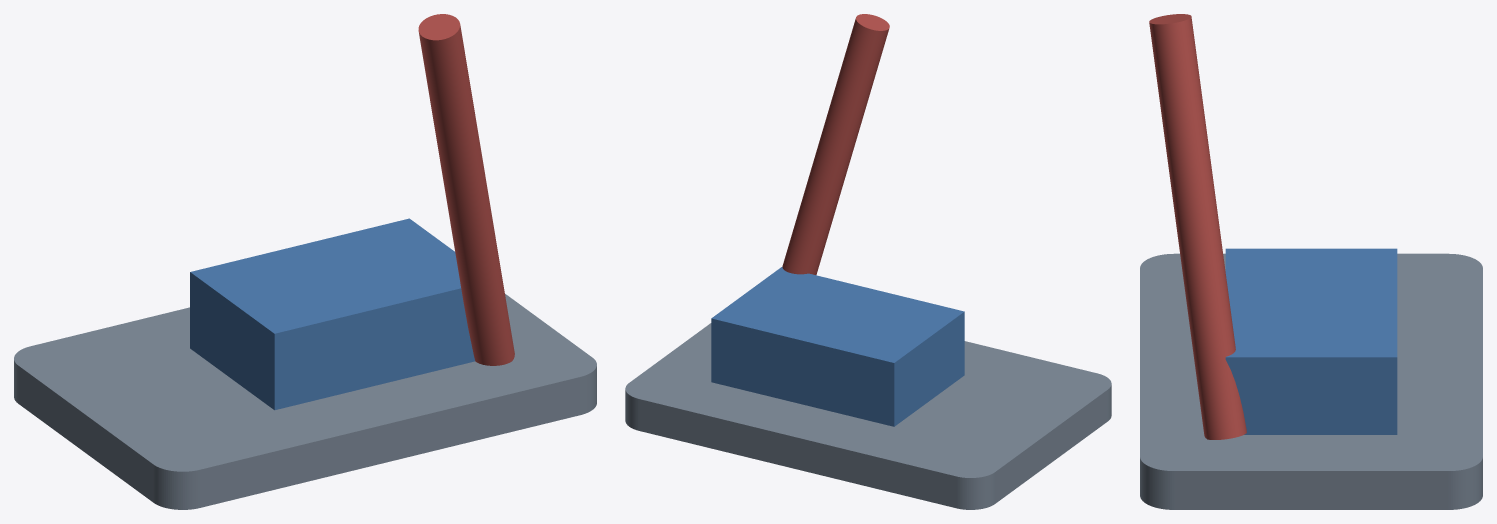
Rendered from demo.glb.
The picture shows the model from 3 angles, left to right: view 1: azimuth 30°, elevation 25°; view 2: azimuth 150°, elevation 25°; view 3: azimuth 270°, elevation 25°; orthographic projection. The views are drawn at different scales.
Parts seen in each view (by area): view 1: BasePlate, CoverBlock, Shaft; view 2: BasePlate, CoverBlock, Shaft; view 3: BasePlate, CoverBlock, Shaft.
Boxes of the visible parts, left/top/right/bottom form: BasePlate: left=14, top=294, right=596, bottom=509; CoverBlock: left=190, top=218, right=474, bottom=410; Shaft: left=418, top=14, right=514, bottom=365; BasePlate: left=625, top=323, right=1111, bottom=509; CoverBlock: left=711, top=267, right=964, bottom=426; Shaft: left=782, top=14, right=889, bottom=274; BasePlate: left=1140, top=253, right=1482, bottom=509; CoverBlock: left=1225, top=248, right=1397, bottom=434; Shaft: left=1149, top=14, right=1246, bottom=439.
Bounding box in the file's own units: 120 × 118 × 80.
